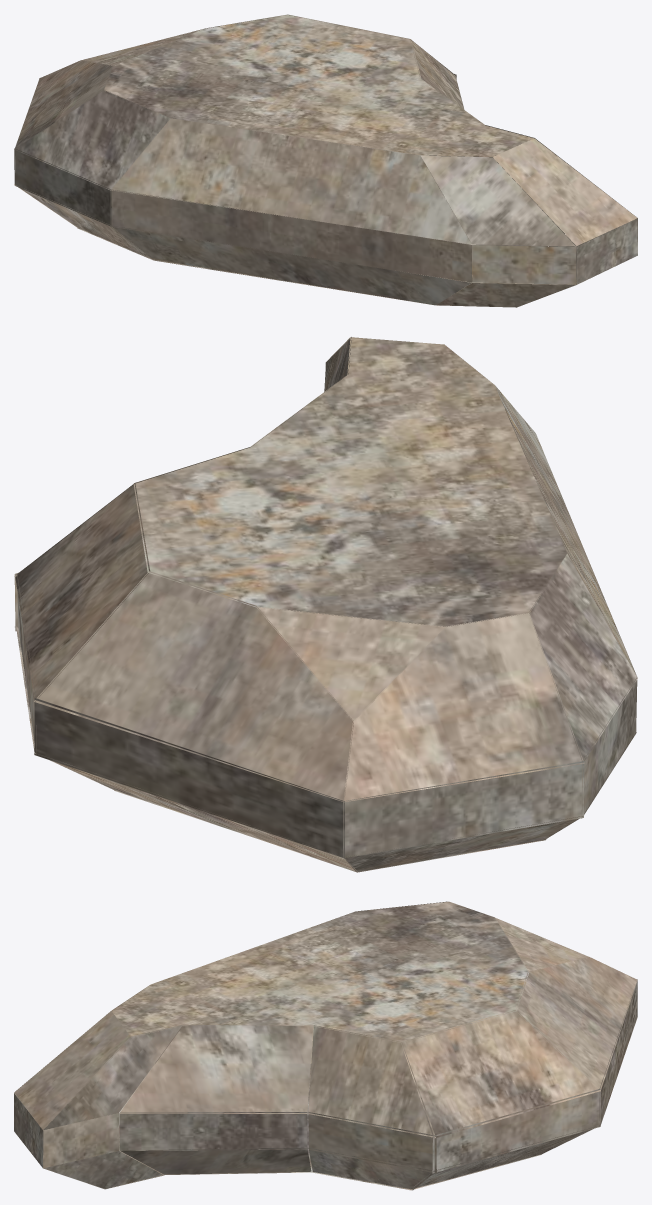
File: cave_rock.glb
3 renders of one model, top to bottom at view 1: azimuth 30°, elevation 25°; view 2: azimuth 150°, elevation 25°; view 3: azimuth 270°, elevation 25°, orthographic. The views are drawn at different scales.
Parts seen in each view (by area): view 1: cave_rock; view 2: cave_rock; view 3: cave_rock.
Boxes of the visible parts, bbox=[...] form: cave_rock: bbox=[14, 14, 637, 307]; cave_rock: bbox=[14, 337, 637, 872]; cave_rock: bbox=[14, 901, 637, 1190].
Size of the model in its own units: 0.312 by 0.1043 by 0.4064.
1 material, 1 textured.
